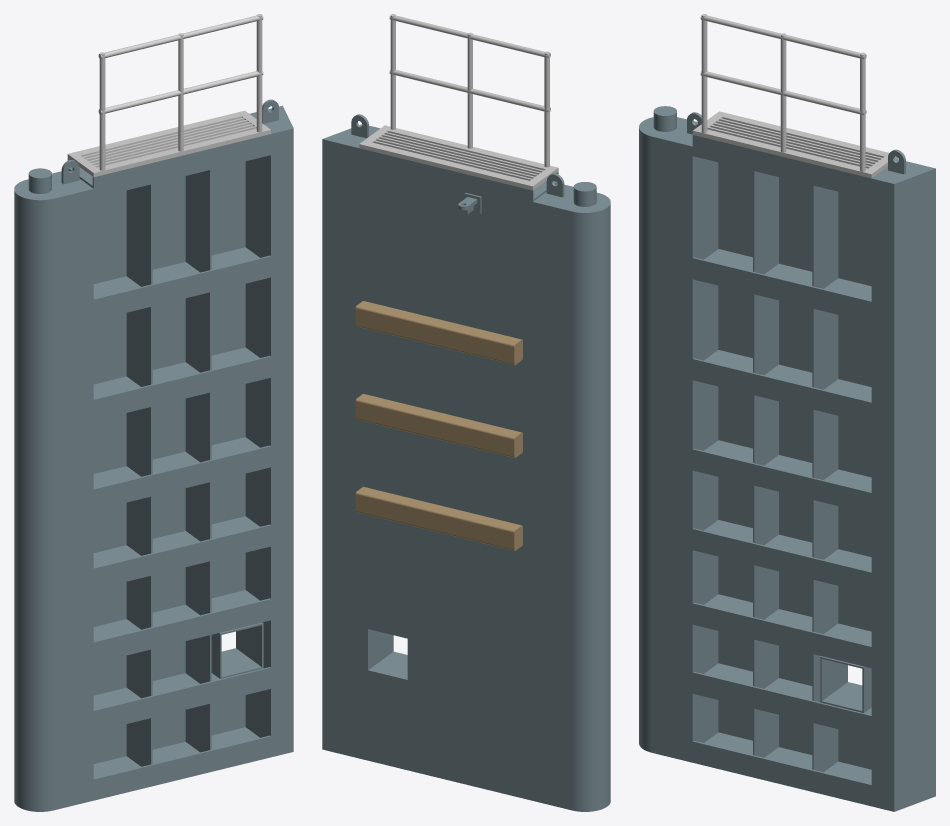
Rendered from step_09.glb.
3 views of the same model, side by side, from view 1: azimuth 30°, elevation 25°; view 2: azimuth 150°, elevation 25°; view 3: azimuth 330°, elevation 25° (orthographic). The views are drawn at different scales.
Visible parts, largest first — view 1: part__heel post, part__skin plate, part__mitre post, part__stiffener 2, part__stiffener 1, part__girder 5, part__girder 1, part__girder 3, part__girder 4, part__girder 6, part__girder 7, part__girder 2 (+4 smaller); view 2: part__skin plate, part__heel post, part__mitre post, part__walkway grating, part__oak fender 1, part__oak fender 3, part__oak fender 2, part__handrail, part__paddle culvert; view 3: part__heel post, part__mitre post, part__skin plate, part__stiffener 1, part__stiffener 2, part__girder 1, part__girder 6, part__girder 3, part__girder 4, part__girder 7, part__girder 5, part__girder 2 (+4 smaller).
Part boxes in pixels (x1,y1,x2,y2): part__heel post: (14, 168, 93, 811); part__skin plate: (67, 158, 245, 763); part__mitre post: (245, 105, 293, 757); part__stiffener 2: (185, 169, 211, 752); part__stiffener 1: (126, 184, 152, 766); part__girder 5: (93, 437, 270, 510); part__girder 1: (93, 727, 270, 800); part__girder 3: (93, 590, 270, 663); part__girder 4: (93, 516, 270, 589); part__girder 6: (93, 347, 270, 420); part__girder 7: (93, 247, 270, 320); part__girder 2: (93, 667, 270, 731); part__skin plate: (359, 148, 533, 800); part__heel post: (533, 182, 610, 811); part__mitre post: (322, 124, 379, 758); part__walkway grating: (359, 125, 558, 190); part__oak fender 1: (355, 486, 522, 550); part__oak fender 3: (355, 301, 522, 364); part__oak fender 2: (355, 394, 522, 457); part__handrail: (389, 14, 550, 167); part__paddle culvert: (368, 629, 407, 679); part__heel post: (639, 106, 718, 762); part__mitre post: (871, 159, 935, 811); part__skin plate: (718, 162, 871, 769); part__stiffener 1: (753, 171, 778, 757); part__stiffener 2: (812, 185, 838, 772); part__girder 1: (692, 732, 871, 806); part__girder 6: (692, 350, 871, 423); part__girder 3: (692, 594, 871, 668); part__girder 4: (692, 520, 871, 593); part__girder 7: (692, 249, 871, 322); part__girder 5: (692, 440, 871, 513); part__girder 2: (692, 663, 871, 737).
Size of the model in its own units: 2760 by 7050 by 670.
